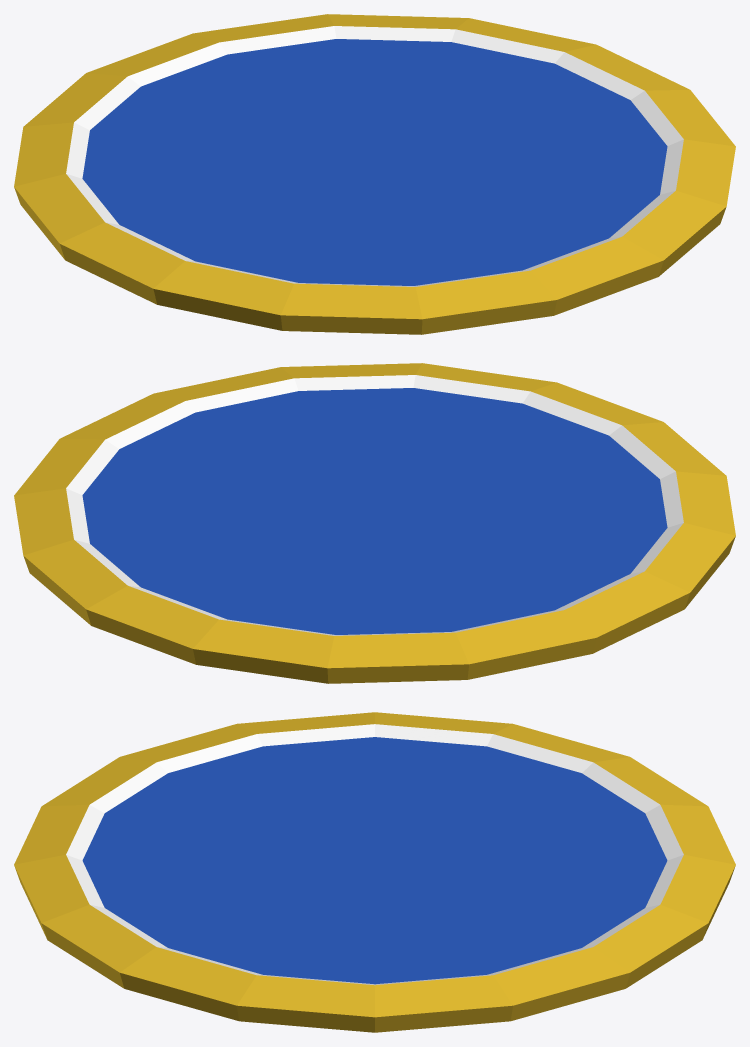
File: Tile3D.fbx
The picture shows the model from 3 angles, top to bottom: view 1: azimuth 30°, elevation 25°; view 2: azimuth 150°, elevation 25°; view 3: azimuth 270°, elevation 25°; orthographic projection.
Parts seen in each view (by area): view 1: BasicMat; view 2: BasicMat; view 3: BasicMat.
Boxes of the visible parts, box(x1,y1,x2,y2) form: BasicMat: box(14, 14, 735, 334); BasicMat: box(14, 363, 735, 683); BasicMat: box(14, 712, 735, 1032).
Size of the model in its own units: 204 by 8.8 by 204.
